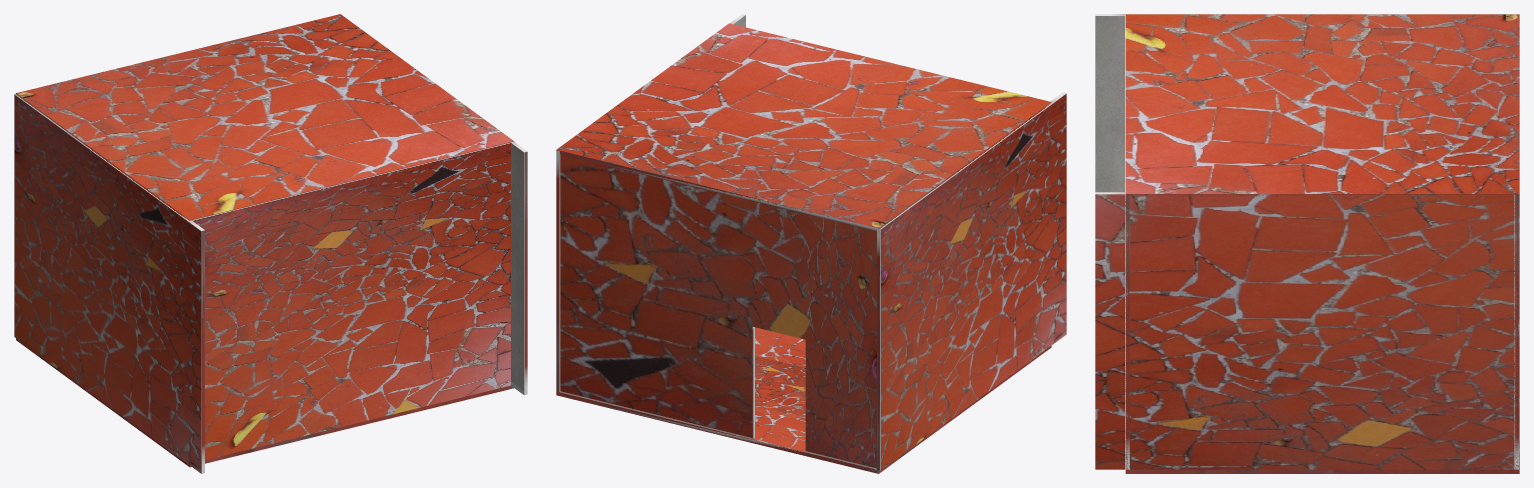
Rendered from quarto.obj.
3 views of the same model, side by side, from view 1: azimuth 30°, elevation 25°; view 2: azimuth 150°, elevation 25°; view 3: azimuth 270°, elevation 25° (orthographic). The views are drawn at different scales.
Parts seen in each view (by area): view 1: cuboid, teto, chao; view 2: cuboid, teto, chao; view 3: cuboid, teto, chao.
Boxes of the visible parts, bbox=[...] form: cuboid: bbox=[14, 93, 527, 473]; teto: bbox=[16, 14, 514, 220]; chao: bbox=[16, 338, 513, 467]; cuboid: bbox=[556, 14, 1066, 470]; teto: bbox=[556, 23, 1051, 231]; chao: bbox=[556, 327, 1051, 473]; cuboid: bbox=[1095, 14, 1519, 469]; teto: bbox=[1125, 14, 1519, 198]; chao: bbox=[1125, 469, 1519, 473].
Bounding box in the file's own units: 11.31 × 8.19 × 11.25.
Materials: 1 (1 with a texture image).
